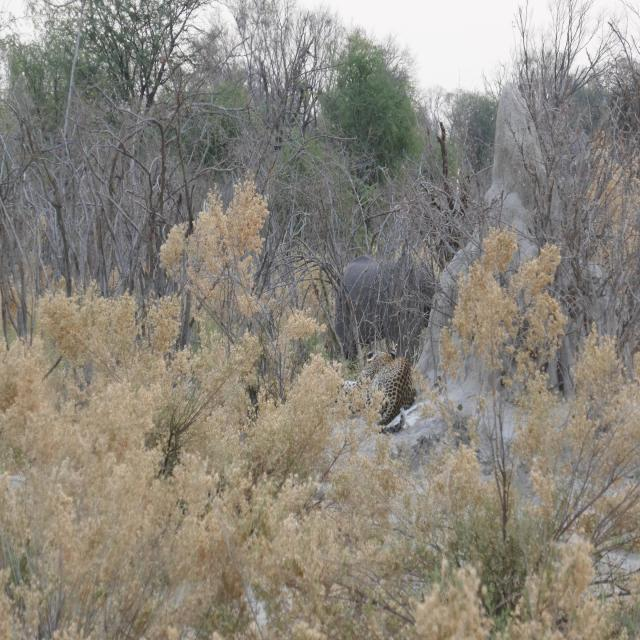Leopard: (352, 345, 422, 439)
